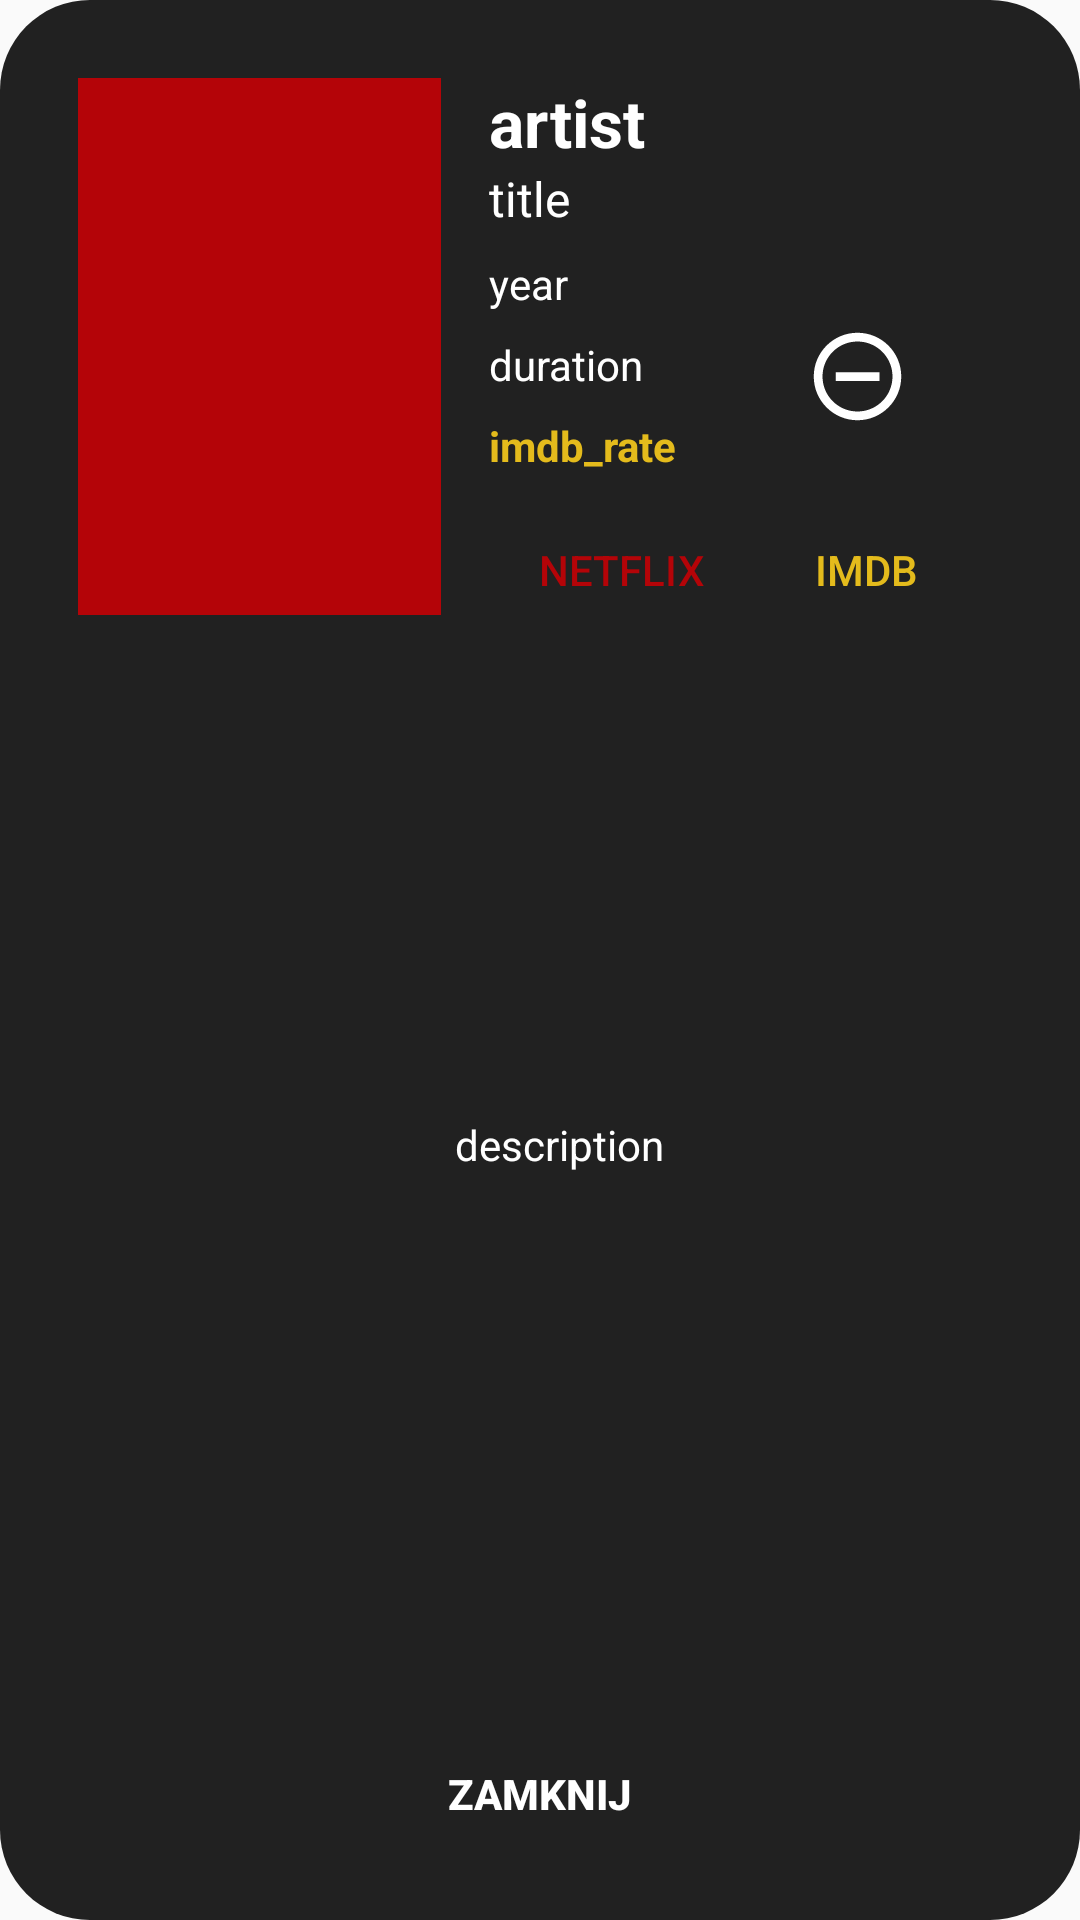

Icon click points for this 1080*1920 phone screenshot, format point (x, y):
remove circle: point (857, 376)
